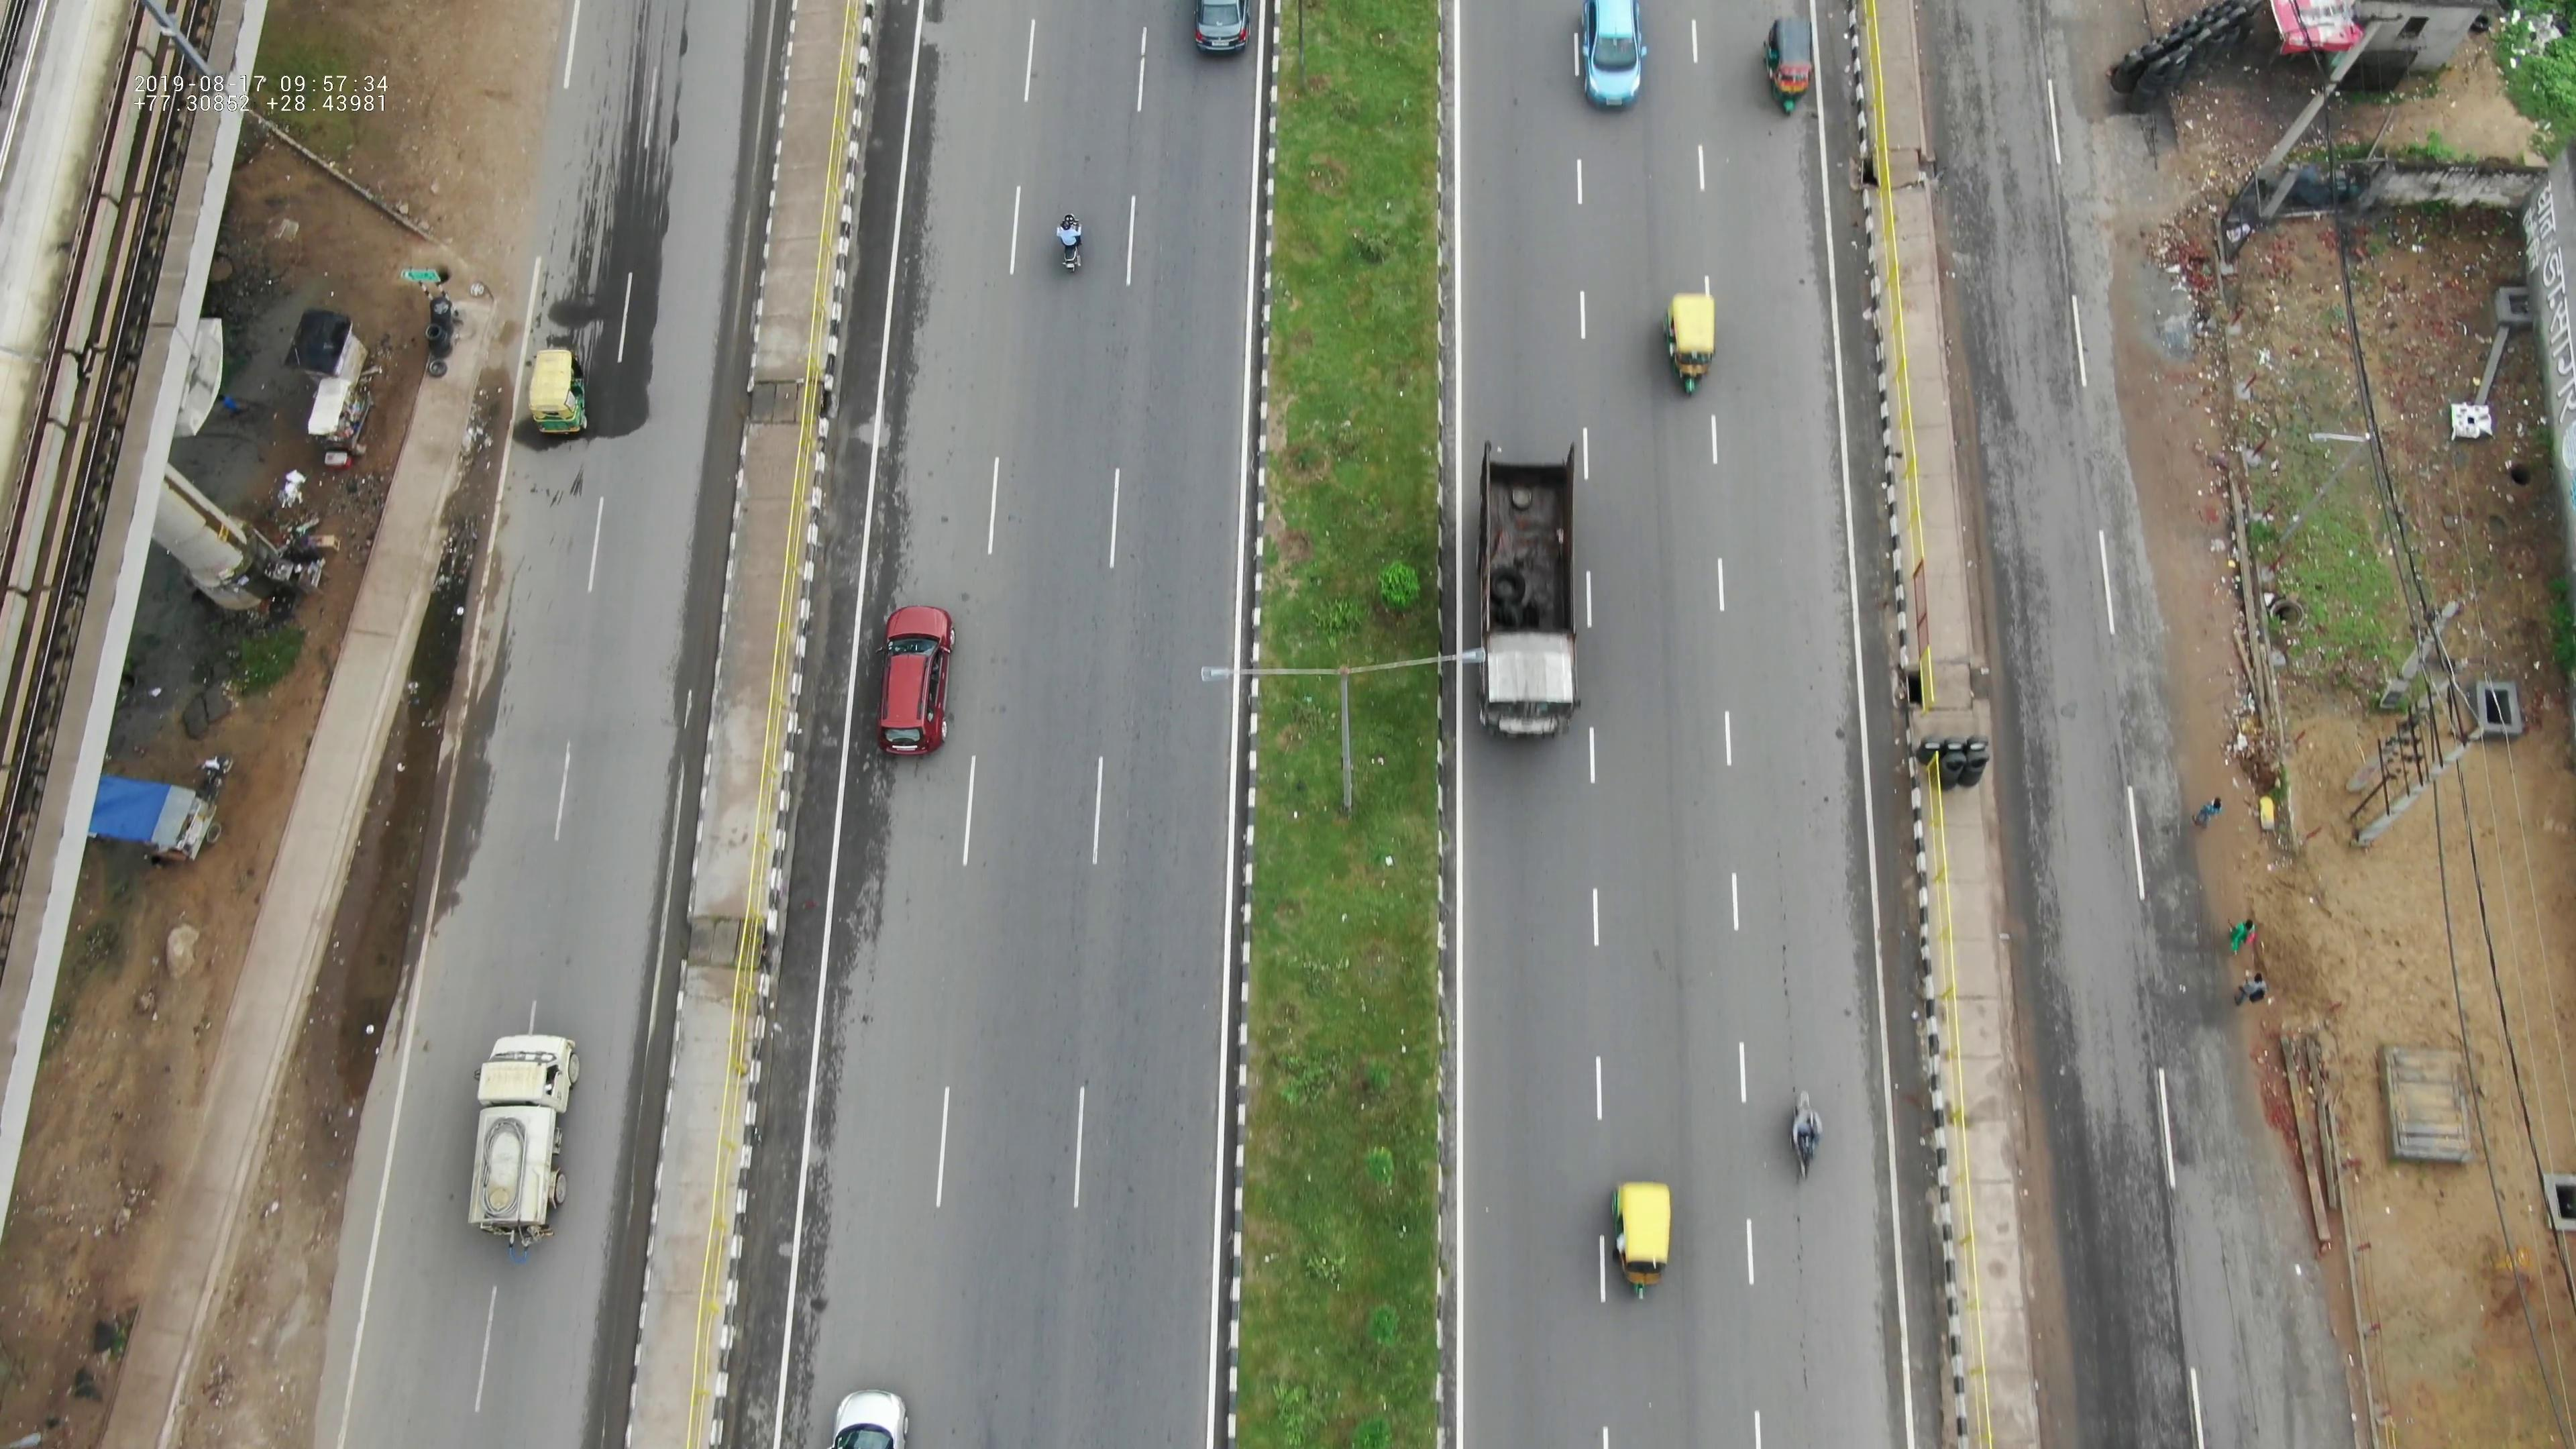Muddy_road: (2127, 502, 2279, 786), (2102, 221, 2245, 479)
